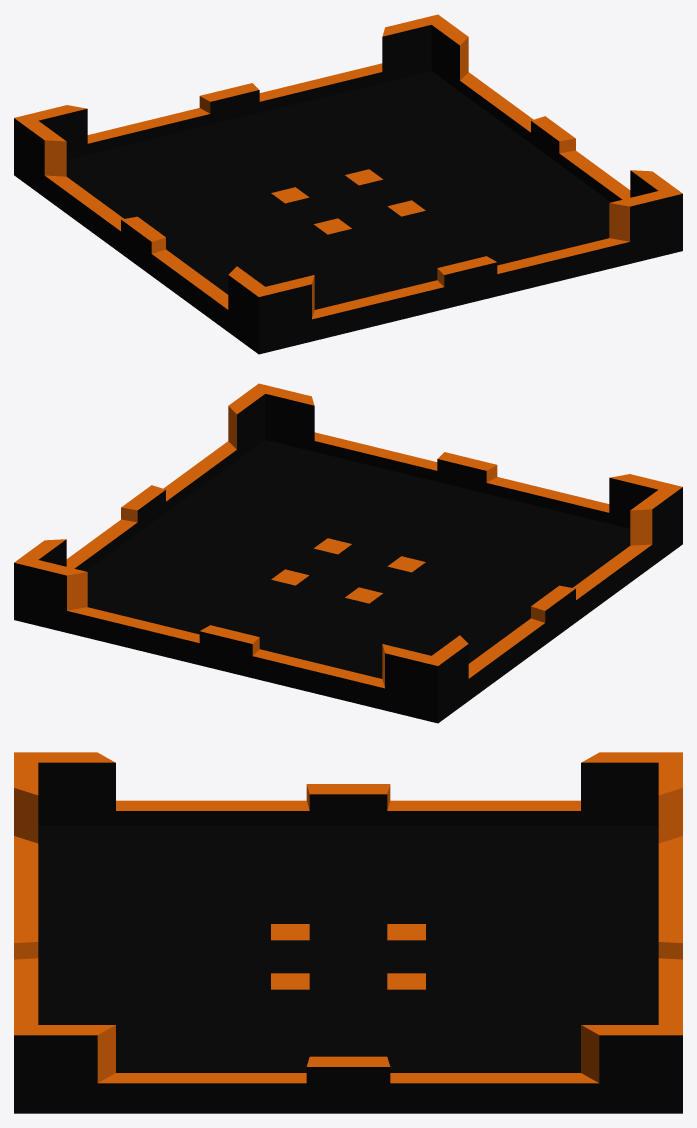
File: turretholder.fbx
3 renders of one model, top to bottom at view 1: azimuth 30°, elevation 25°; view 2: azimuth 150°, elevation 25°; view 3: azimuth 270°, elevation 25°, orthographic. The views are drawn at different scales.
Parts seen in each view (by area): view 1: Cube; view 2: Cube; view 3: Cube.
Boxes of the visible parts, box(x1,y1,x2,y2) form: Cube: box(14, 14, 682, 354); Cube: box(14, 383, 682, 723); Cube: box(14, 752, 682, 1113).
Size of the model in its own units: 200 by 25.84 by 200.
